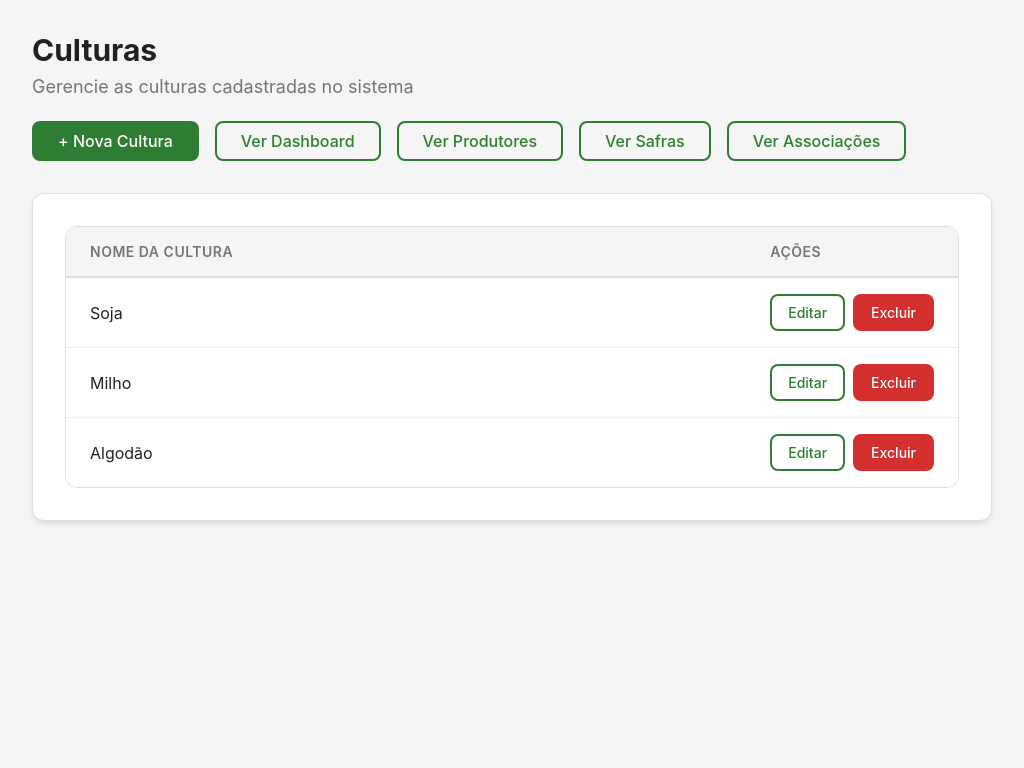
Scenario: Componente CropsListPage › deve abrir modal ao clicar em Nova Cultura
This screenshot has width=1024, height=768.
Step 1. Click the button "+ Nova Cultura" → (115, 141), box 32,121 -> 199,161
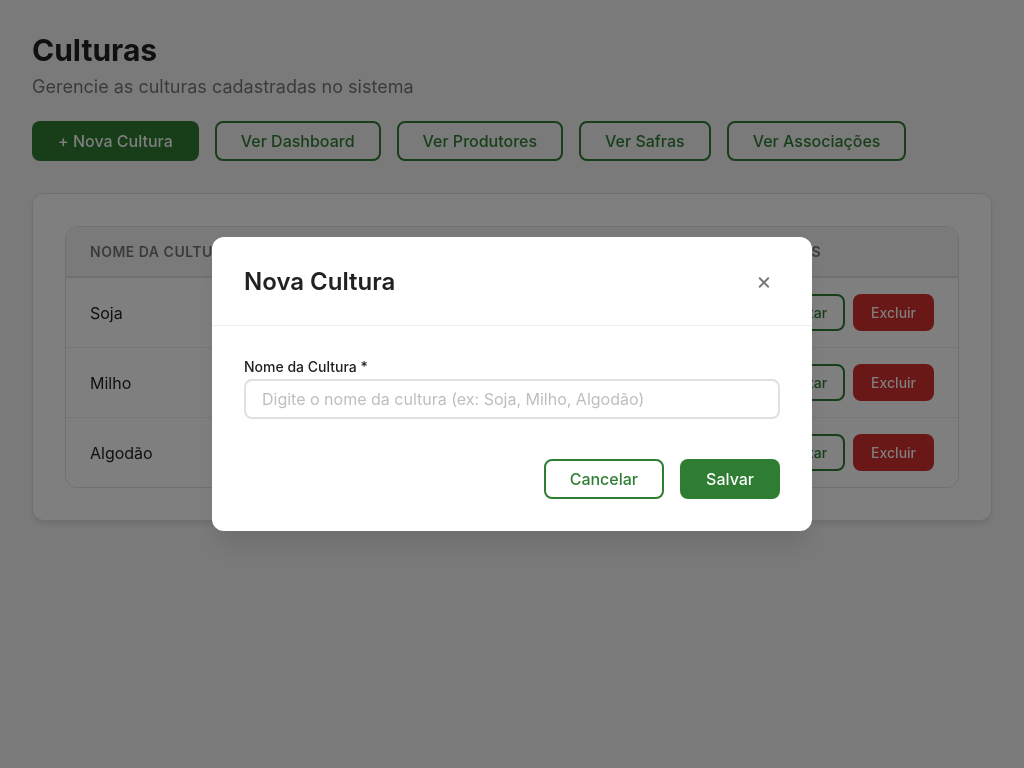
expect the heading "Nova Cultura" is shown: met, box 244,266 -> 395,296
